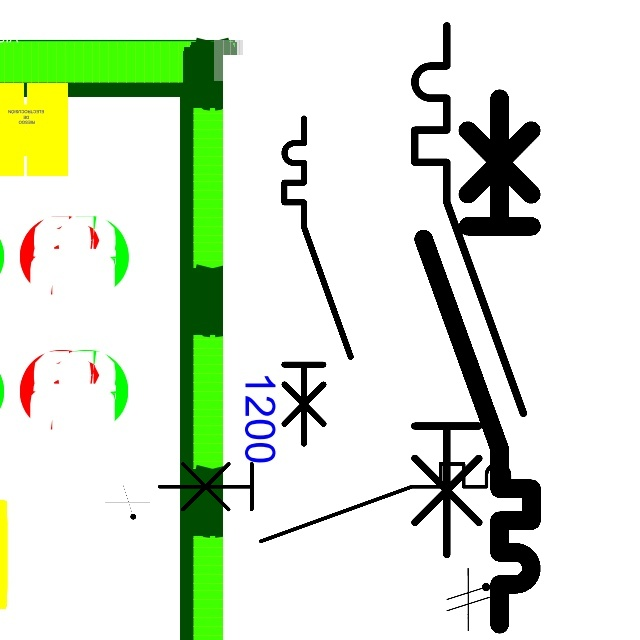interruptor_termomagnetico: (401, 12, 537, 568), (410, 85, 545, 638), (150, 454, 548, 551), (276, 110, 359, 451)
